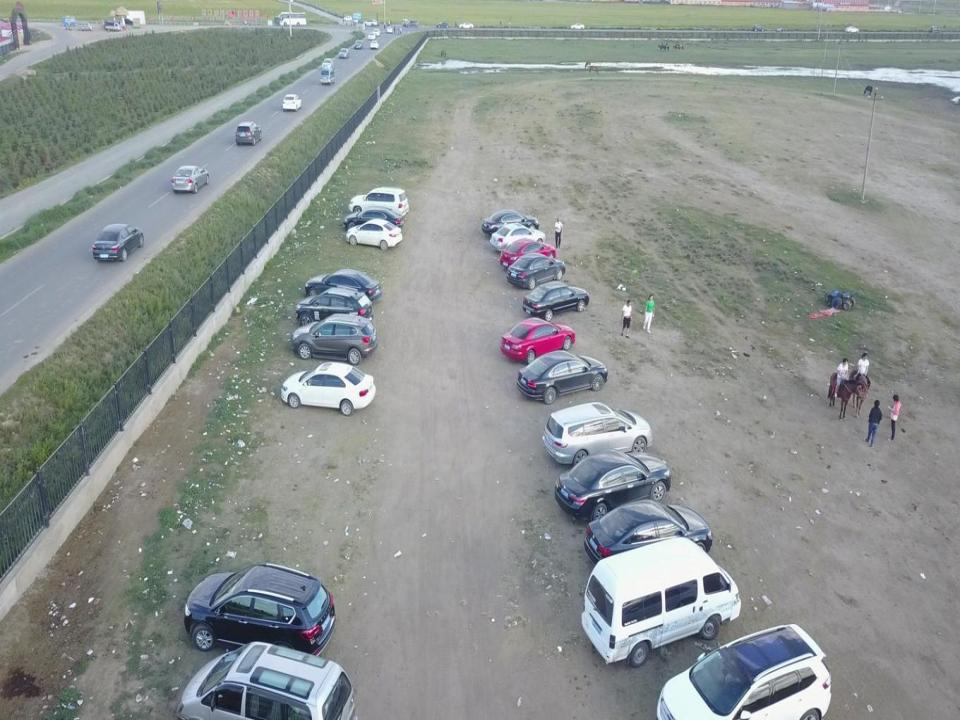bus: (278, 12, 306, 26)
car: (655, 621, 833, 720), (182, 563, 336, 658), (584, 499, 714, 564), (556, 451, 673, 517), (517, 349, 606, 406), (281, 362, 376, 415), (291, 313, 379, 368), (498, 318, 576, 362), (297, 286, 374, 330), (304, 268, 382, 307), (523, 281, 591, 319), (94, 223, 146, 264), (348, 187, 409, 221), (346, 218, 402, 250), (344, 206, 403, 235), (172, 164, 209, 193), (234, 120, 262, 146), (282, 94, 302, 110), (321, 58, 333, 69), (929, 25, 942, 34), (458, 22, 474, 29), (752, 24, 765, 32), (339, 48, 349, 58), (845, 26, 859, 33), (370, 40, 379, 50), (436, 22, 450, 28), (570, 23, 584, 29), (354, 39, 362, 49), (367, 32, 375, 40), (372, 29, 380, 37)
truck: (104, 22, 120, 31)
van: (582, 536, 742, 668), (176, 639, 358, 720), (542, 402, 654, 461), (320, 66, 334, 85)
